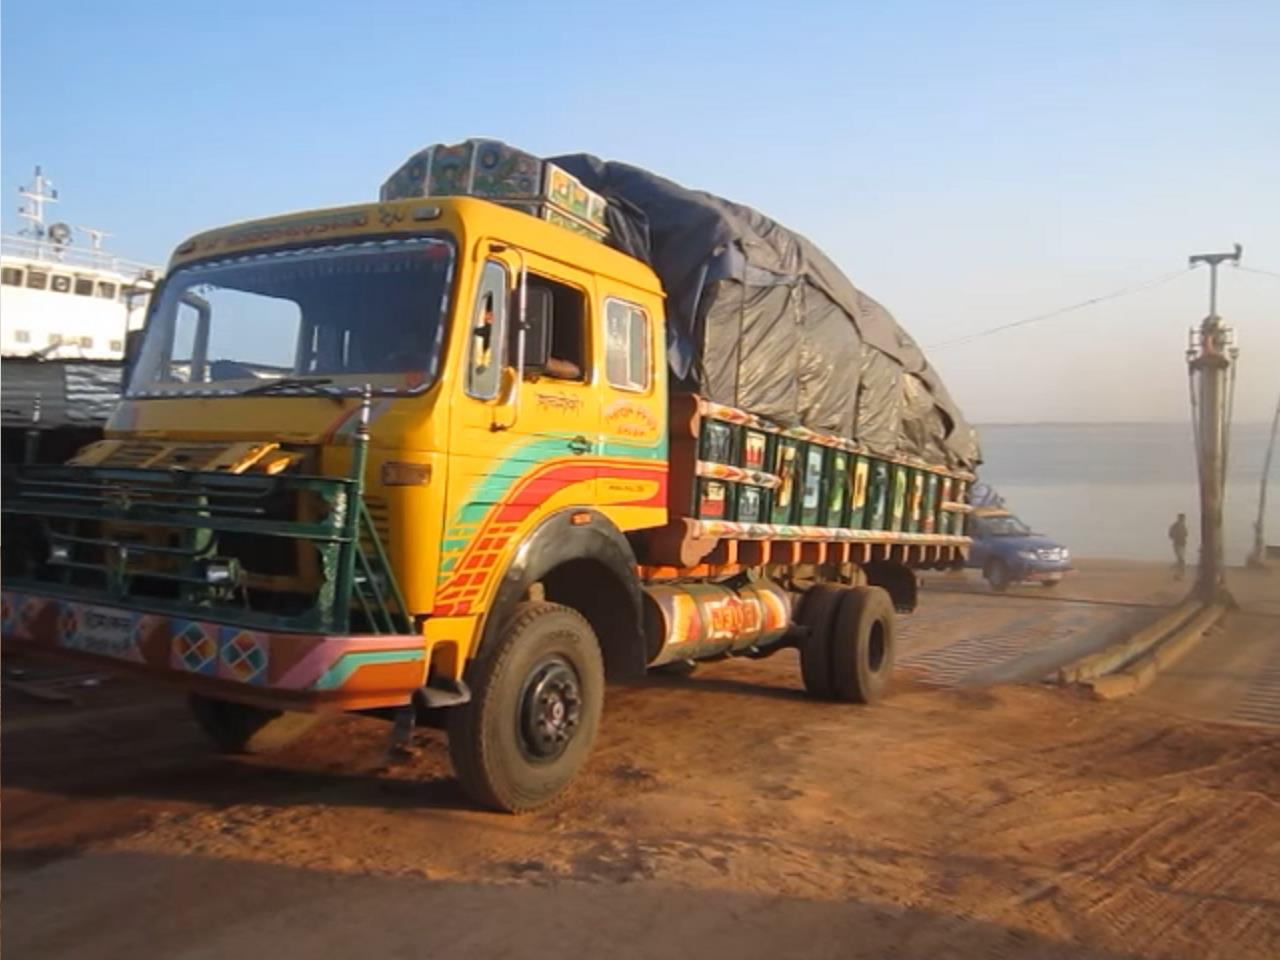car: (970, 509, 1077, 593)
truck: (39, 199, 973, 756)
